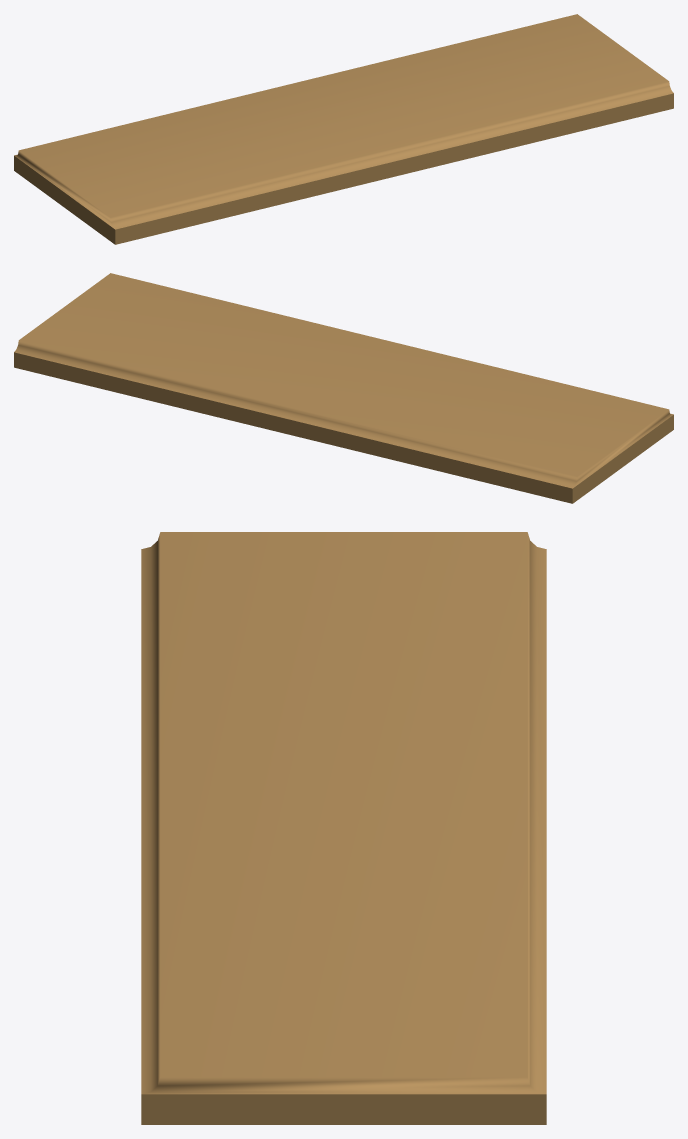
Rendered from gf_board_03.glb.
3 renders of one model, top to bottom at view 1: azimuth 30°, elevation 25°; view 2: azimuth 150°, elevation 25°; view 3: azimuth 270°, elevation 25°, orthographic. The views are drawn at different scales.
Parts seen in each view (by area): view 1: gf_board_03; view 2: gf_board_03; view 3: gf_board_03.
Boxes of the visible parts, x1,y1,x2,y2 form: gf_board_03: (14,14,673,244); gf_board_03: (14,273,673,503); gf_board_03: (141,532,546,1124).
Size of the model in its own units: 1.35 by 0.0605 by 0.424.
